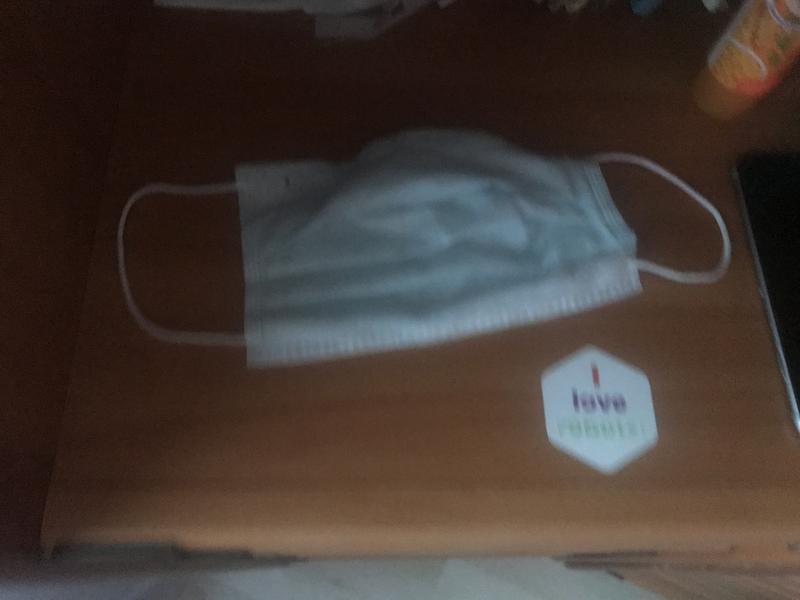medical_mask: (117, 133, 731, 348)
